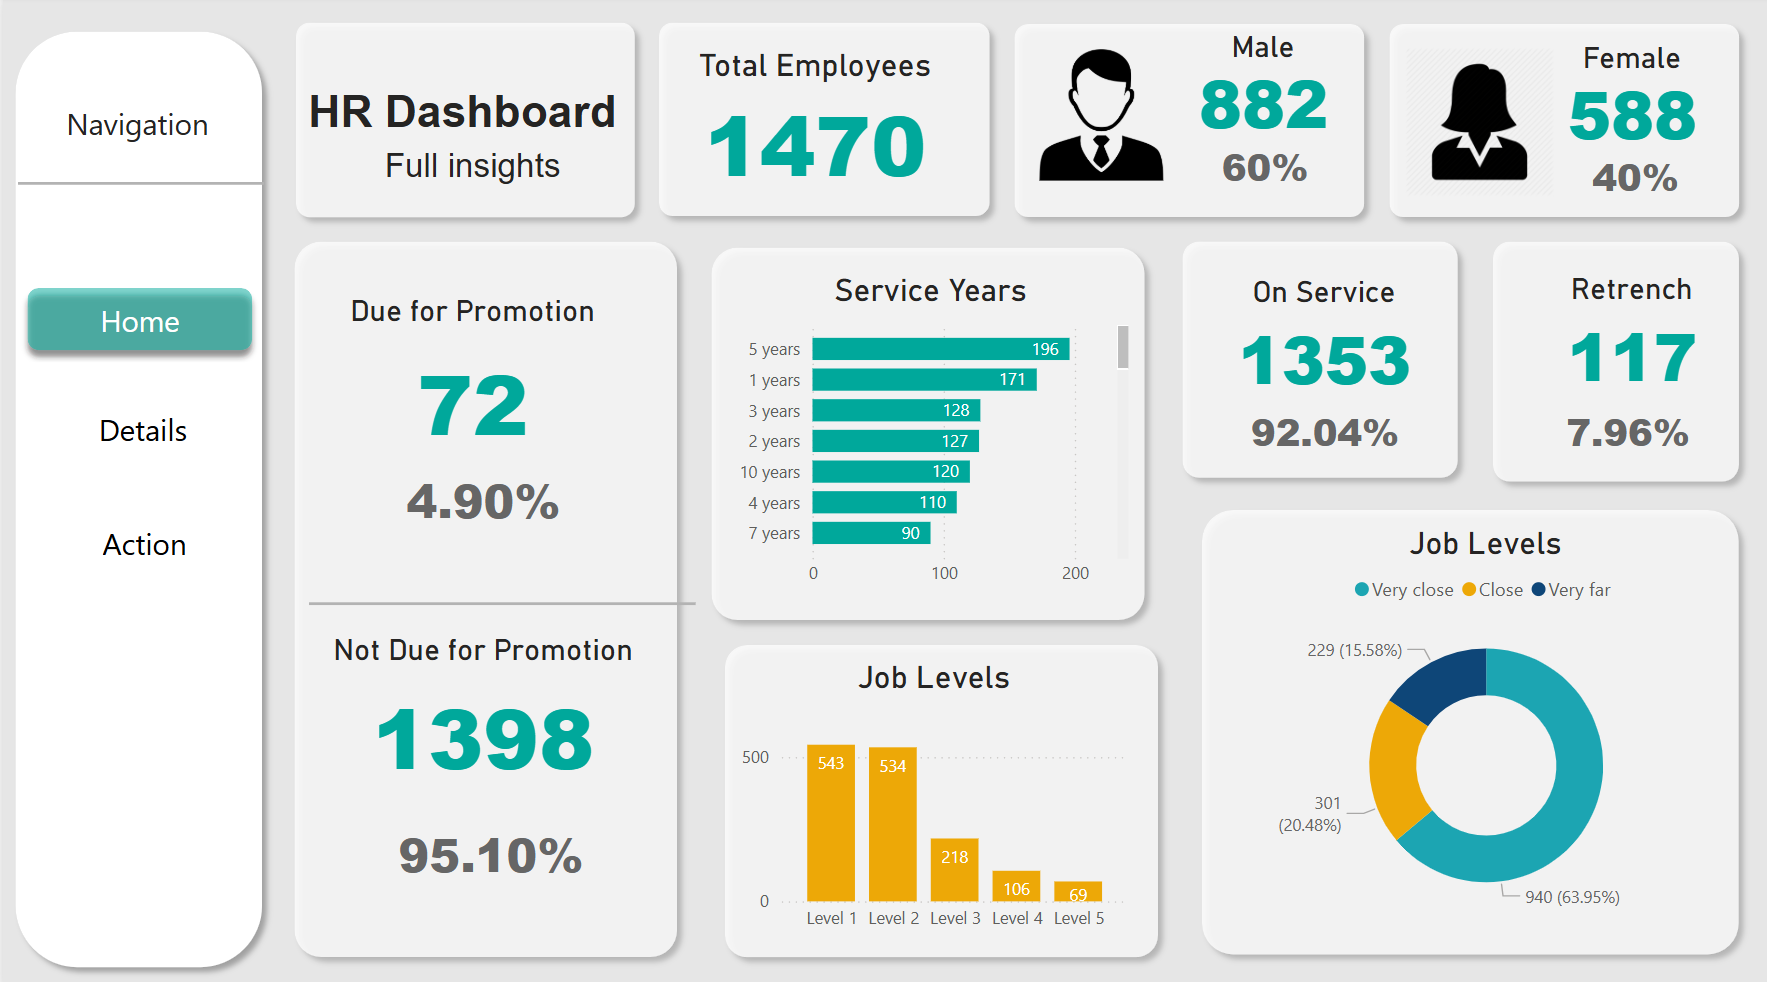

The page's visual inventory and layout, read from the dashboard file:
{"tool":"powerbi","page":{"name":"Home","canvas":[1280,720],"ordinal":0},"visuals":[{"type":"shape","box":[0,16.9,195.7,692.4],"z":0},{"type":"shape","box":[201.8,10.9,262.2,158.3],"z":1000},{"type":"shape","box":[463.8,11.2,256.2,157.5],"z":2000},{"type":"shape","box":[720,11.4,270,157.1],"z":3000},{"type":"shape","box":[990,11.4,270,157.1],"z":4000},{"type":"shape","box":[201.2,168.8,293.8,533.8],"z":5000},{"type":"shape","box":[501.4,172.8,330.1,286.5],"z":6000},{"type":"shape","box":[511.3,459.3,330.1,243],"z":7000},{"type":"shape","box":[841.3,168.5,216.3,188.2],"z":8000},{"type":"shape","box":[1064.6,168.5,195.2,191],"z":9000},{"type":"shape","box":[855.5,362.5,404.8,338.3],"z":10000},{"type":"textbox","box":[203.8,60,256.2,53.8],"z":11000},{"type":"textbox","box":[210,103.8,257.5,41.2],"z":12000},{"type":"card","title":"Total Employees","fields":{"Values":["All measures.Total Emp"]},"box":[463.5,36.5,243,108.1],"z":13000},{"type":"card","title":"Male","fields":{"Values":["All measures.male"]},"box":[839.9,25.3,136.2,78.7],"z":14000},{"type":"card","title":"Male","fields":{"Values":["All measures.% male"]},"box":[841.3,103.9,136.2,40.7],"z":15000},{"type":"card","title":"Female","fields":{"Values":["All measures.Female"]},"box":[1106.5,32.5,136.2,78.7],"z":16000},{"type":"card","title":"Male","fields":{"Values":["All measures.% female"]},"box":[1107.9,111.1,136.2,40.7],"z":17000},{"type":"image","box":[741.6,32.3,99.7,108.1],"z":18000},{"type":"image","box":[1002.8,32.3,122.2,118],"z":19000},{"type":"card","title":"Due for Promotion","fields":{"Values":["All measures.Due for promotion"]},"box":[188.2,214.9,300.6,126.4],"z":20000},{"type":"card","title":"Due for Promotion","fields":{"Values":["All measures.% Due for promotion"]},"box":[195.2,313.2,300.6,101.1],"z":21000},{"type":"card","title":"Not Due for Promotion","fields":{"Values":["All measures.Not Due"]},"box":[195.2,459.8,300.6,119.4],"z":22000},{"type":"card","title":"Due for Promotion","fields":{"Values":["All measures.% Not Due"]},"box":[200.8,568.8,300.6,101.1],"z":23000},{"type":"shape","box":[10.9,129.3,177.6,12.1],"z":24000},{"type":"barChart","title":" Service Years","fields":{"Category":["HR Analytics Data.Service Years"],"Y":["All measures.Total Emp"]},"box":[521.1,199.4,295,236],"z":25000},{"type":"clusteredColumnChart","title":"Job Levels","fields":{"Y":["All measures.Total Emp"],"Category":["HR Analytics Data.Job Levels"]},"box":[526.7,477.5,289.3,205.1],"z":26000},{"type":"card","title":"On Service","fields":{"Values":["All measures.On sevice"]},"box":[847.4,201.3,209.3,94.1],"z":27000},{"type":"card","title":"Male","fields":{"Values":["All measures.% on service"]},"box":[883.9,295.4,136.2,40.7],"z":28000},{"type":"card","title":"Retrench","fields":{"Values":["All measures.wiil be retrenched"]},"box":[1068.9,199.4,209.3,94.1],"z":29000},{"type":"card","title":"Male","fields":{"Values":["All measures.% wiil be retrenched"]},"box":[1102.6,295,136.2,40.7],"z":30000},{"type":"donutChart","title":"Job Levels","fields":{"Category":["HR Analytics Data.Distance Status"],"Y":["All measures.Total Emp"]},"box":[888.8,381.2,360,291.2],"z":31000},{"type":"shape","box":[220,432.5,278.8,12.5],"z":32000},{"type":"textbox","box":[24.2,72.5,146.2,52],"z":33000},{"type":"actionButton","box":[10.9,281.5,180,62.8],"z":34000},{"type":"actionButton","box":[12.1,363.7,180,62.8],"z":35000},{"type":"actionButton","box":[8.5,201.8,180,62.8],"z":36000}]}

Visuals, with their boxes in screenshot pixels (x1, y1, x2, y2), scaled from the page's 1280x720 canvas onto the 1767x982 screenshot:
shape: (x1=0, y1=23, x2=270, y2=967)
shape: (x1=279, y1=15, x2=641, y2=231)
shape: (x1=640, y1=15, x2=994, y2=230)
shape: (x1=994, y1=16, x2=1367, y2=230)
shape: (x1=1367, y1=16, x2=1739, y2=230)
shape: (x1=278, y1=230, x2=683, y2=958)
shape: (x1=692, y1=236, x2=1148, y2=626)
shape: (x1=706, y1=626, x2=1162, y2=958)
shape: (x1=1161, y1=230, x2=1460, y2=486)
shape: (x1=1470, y1=230, x2=1739, y2=490)
shape: (x1=1181, y1=494, x2=1740, y2=956)
textbox: (x1=281, y1=82, x2=635, y2=155)
textbox: (x1=290, y1=142, x2=645, y2=198)
"Total Employees" card: (x1=640, y1=50, x2=975, y2=197)
"Male" card: (x1=1159, y1=35, x2=1347, y2=142)
"Male" card: (x1=1161, y1=142, x2=1349, y2=197)
"Female" card: (x1=1527, y1=44, x2=1716, y2=152)
"Male" card: (x1=1529, y1=152, x2=1717, y2=207)
image: (x1=1024, y1=44, x2=1161, y2=191)
image: (x1=1384, y1=44, x2=1553, y2=205)
"Due for Promotion" card: (x1=260, y1=293, x2=675, y2=465)
"Due for Promotion" card: (x1=269, y1=427, x2=684, y2=565)
"Not Due for Promotion" card: (x1=269, y1=627, x2=684, y2=790)
"Due for Promotion" card: (x1=277, y1=776, x2=692, y2=914)
shape: (x1=15, y1=176, x2=260, y2=193)
" Service Years" barChart: (x1=719, y1=272, x2=1127, y2=594)
"Job Levels" clusteredColumnChart: (x1=727, y1=651, x2=1126, y2=931)
"On Service" card: (x1=1170, y1=275, x2=1459, y2=403)
"Male" card: (x1=1220, y1=403, x2=1408, y2=458)
"Retrench" card: (x1=1476, y1=272, x2=1765, y2=400)
"Male" card: (x1=1522, y1=402, x2=1710, y2=458)
"Job Levels" donutChart: (x1=1227, y1=520, x2=1724, y2=917)
shape: (x1=304, y1=590, x2=689, y2=607)
textbox: (x1=33, y1=99, x2=235, y2=170)
actionButton: (x1=15, y1=384, x2=264, y2=470)
actionButton: (x1=17, y1=496, x2=265, y2=582)
actionButton: (x1=12, y1=275, x2=260, y2=361)
